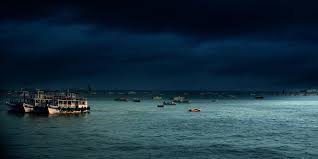boat: (2, 89, 92, 118)
